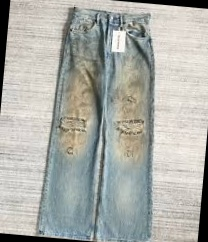earth: (59, 58, 98, 156), (113, 66, 146, 159)
